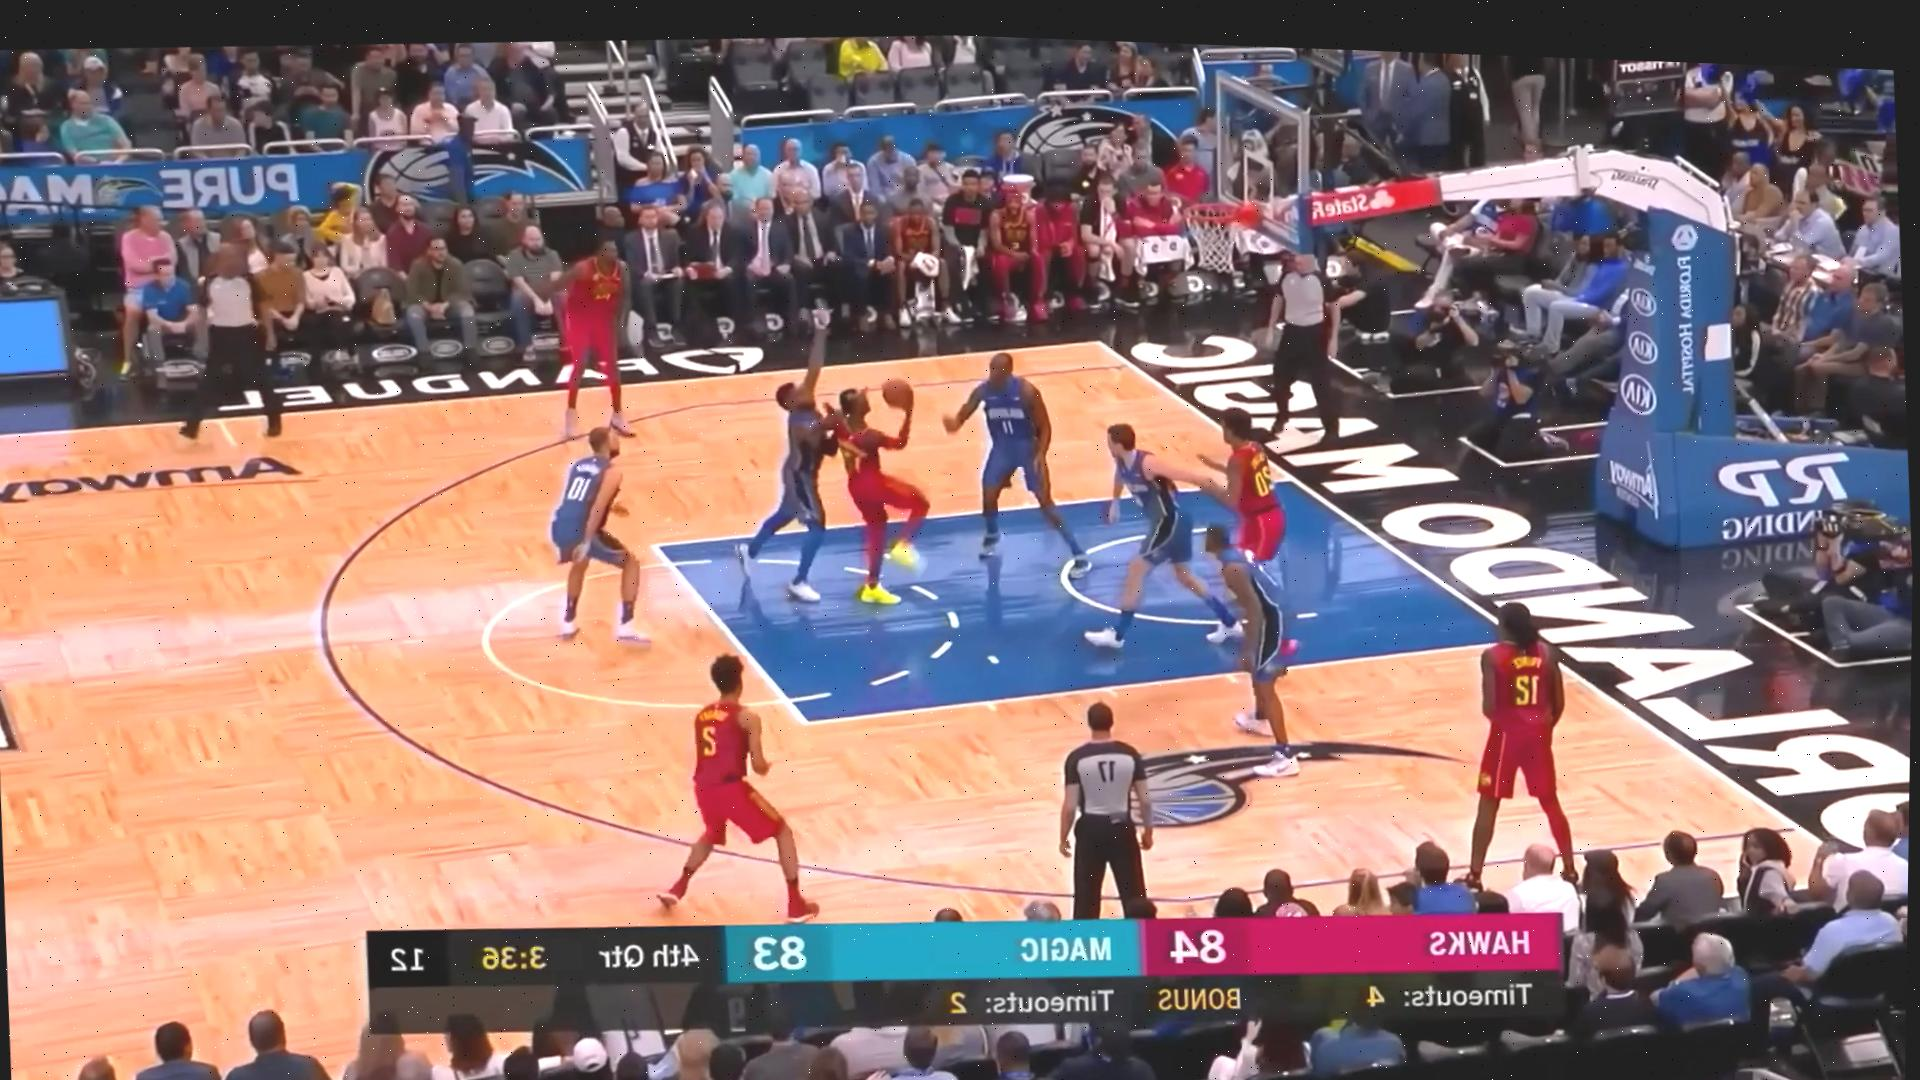no_foul: (711, 336, 920, 619)
